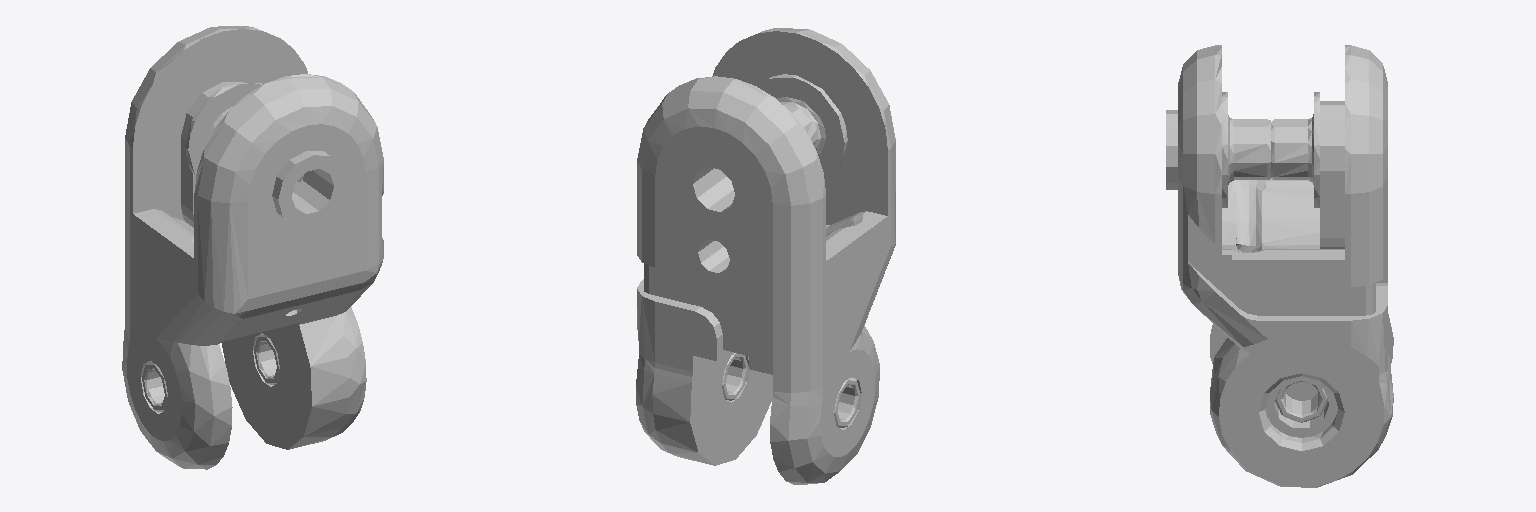
Rendered from thumbpart_r.obj.
3 views of the same model, side by side, from view 1: azimuth 30°, elevation 25°; view 2: azimuth 150°, elevation 25°; view 3: azimuth 270°, elevation 25° (orthographic).
Bounding box in the file's own units: 0.017 × 0.036 × 0.0185.